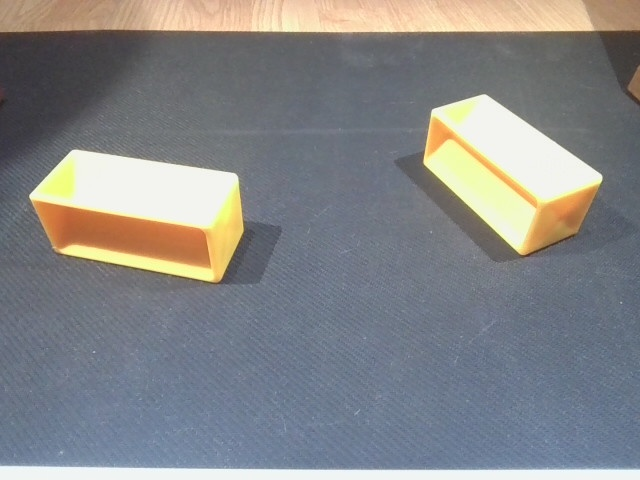YellowSample: (26, 141, 252, 285), (417, 90, 606, 260)
